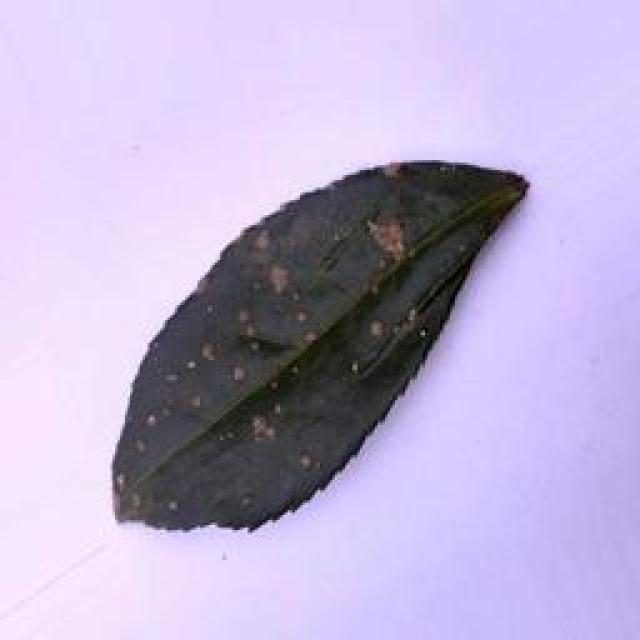Algal Leaf Spot: (102, 156, 522, 530)
